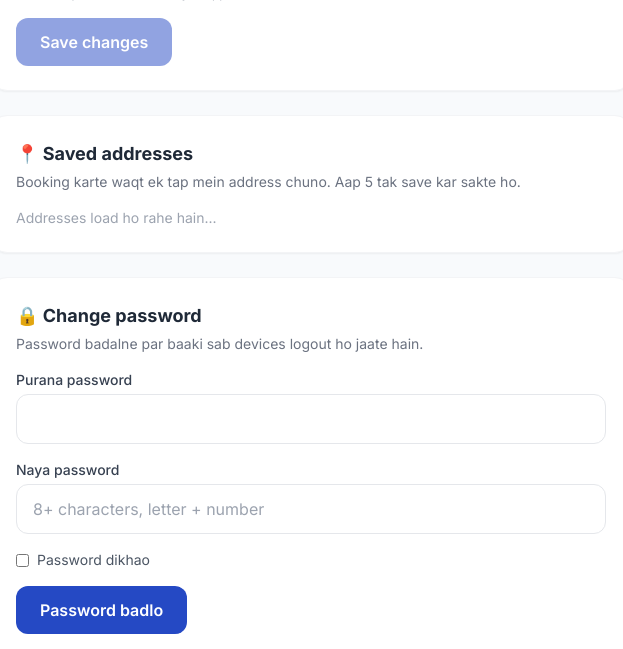
it: a wrong current password shows the server message and keeps the old token
This screenshot has width=623, height=649.
(page scrolled)
In the password field labelled "Purana password": point(311, 419) x1=16 y1=394 x2=606 y2=444, type "Nope12345"
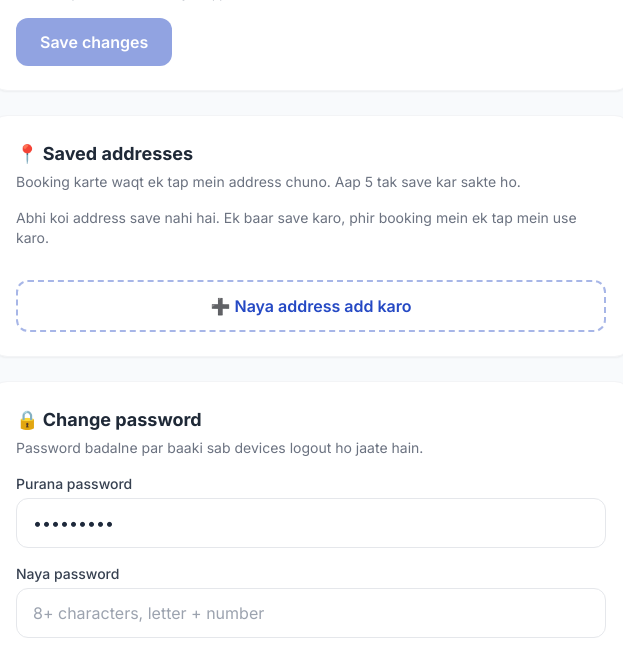
In the password field labelled "Naya password": point(311, 613) x1=16 y1=588 x2=606 y2=638, type "Brandnew123"
(page scrolled)
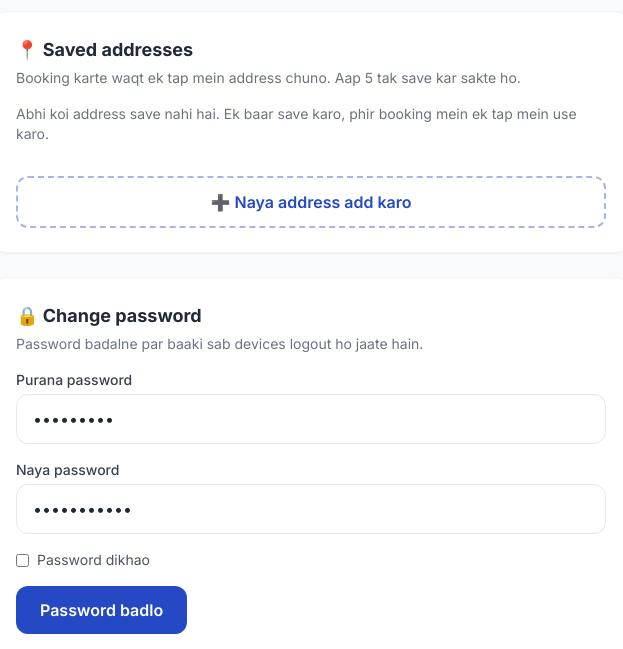
Click the button "Password badlo": point(102, 610) x1=16 y1=586 x2=187 y2=634
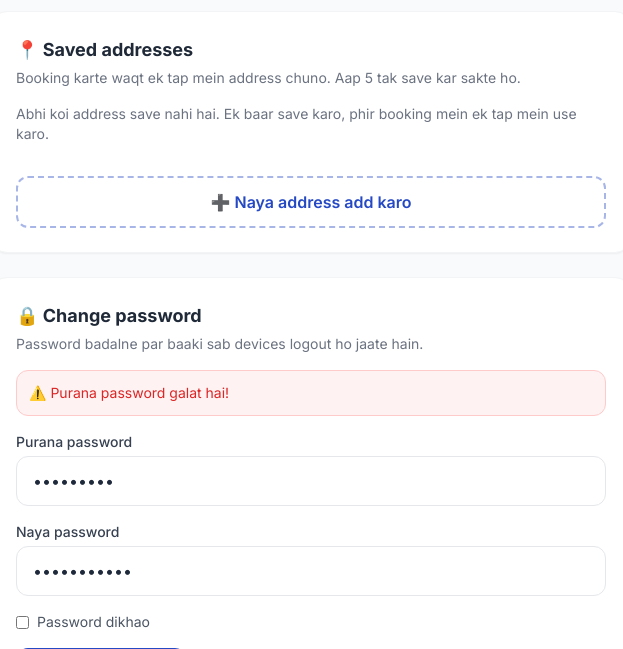
Expected: the text "⚠️ Purana password galat hai!" is shown, x1=16 y1=370 x2=606 y2=416
